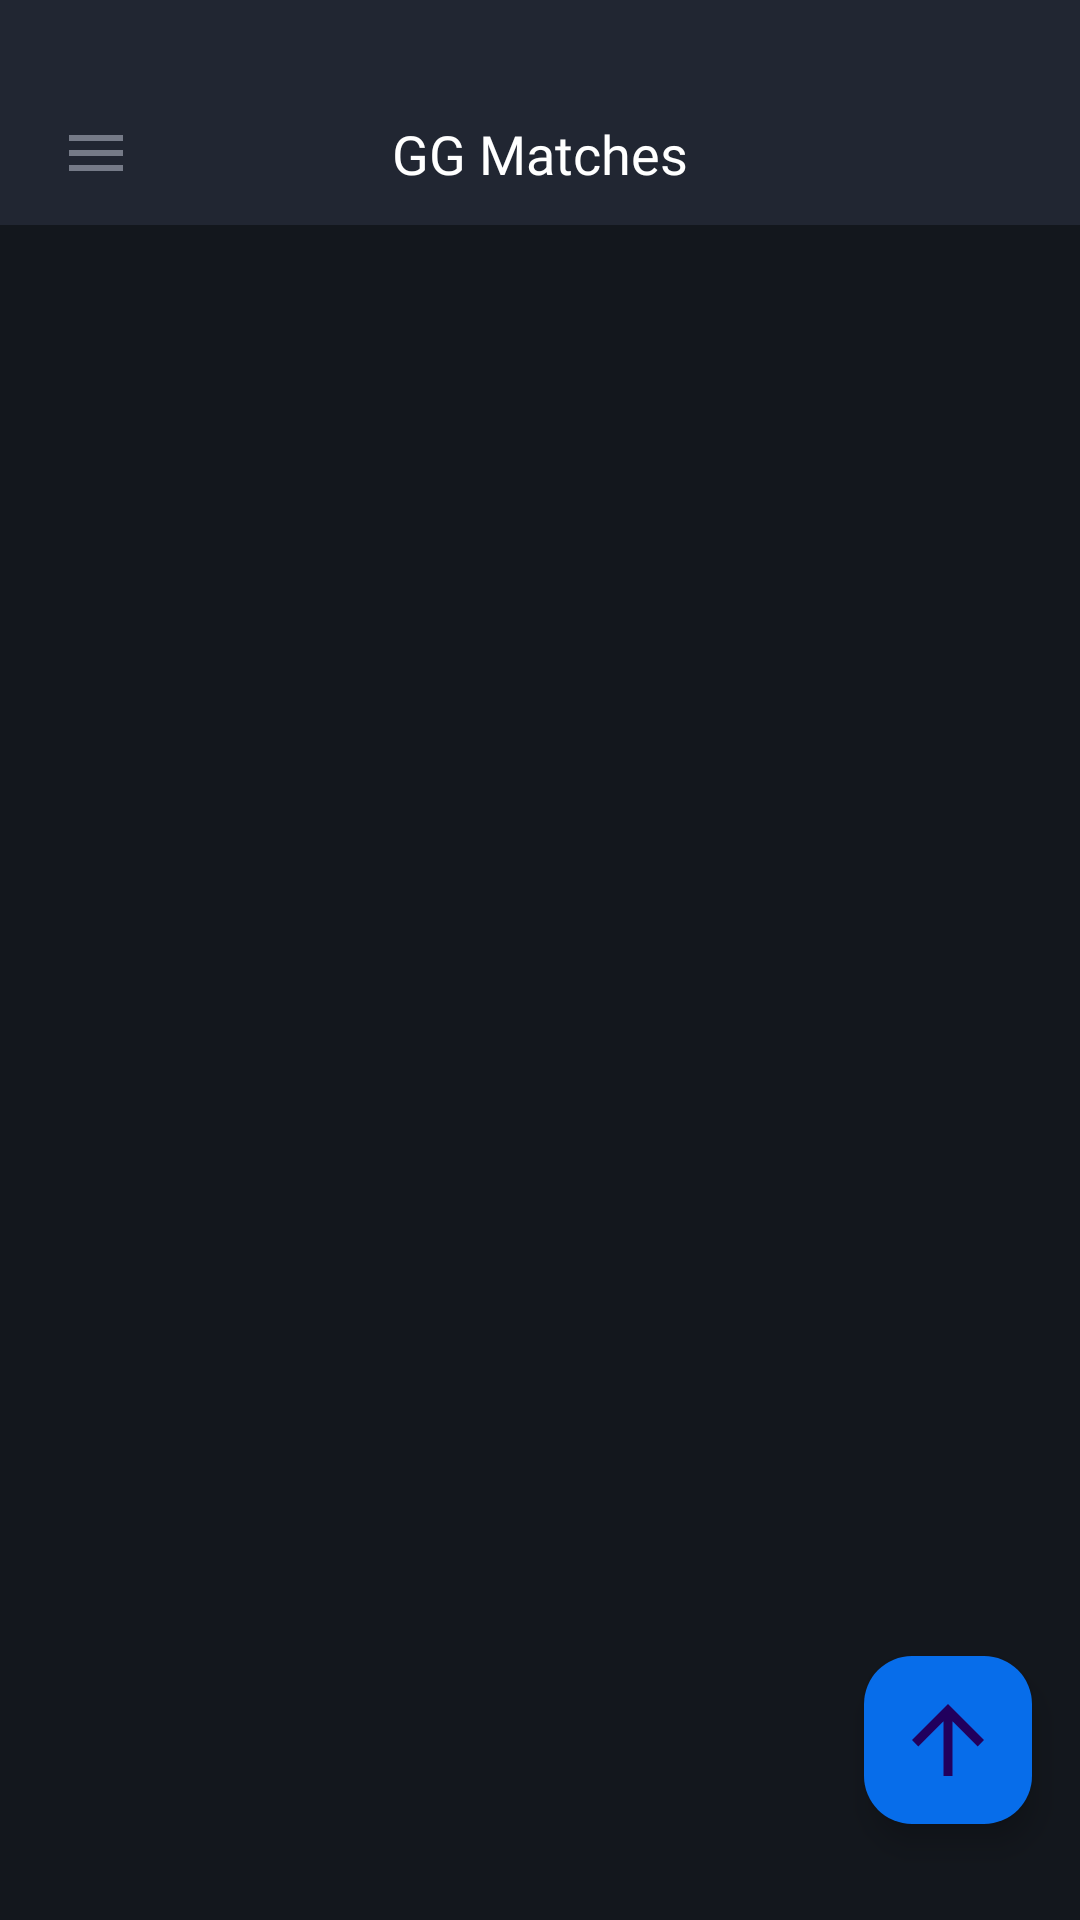

Icon click points for this 1080 x 1920 phone screenshot, format (x=x, y=y):
arrow upward: (x=948, y=1740)
